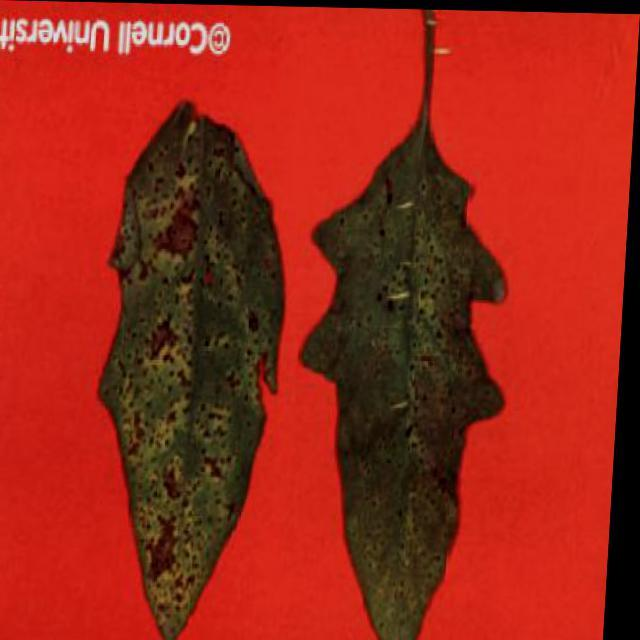Tomato Septoria spot leaf: (286, 81, 527, 639), (79, 89, 300, 639)
